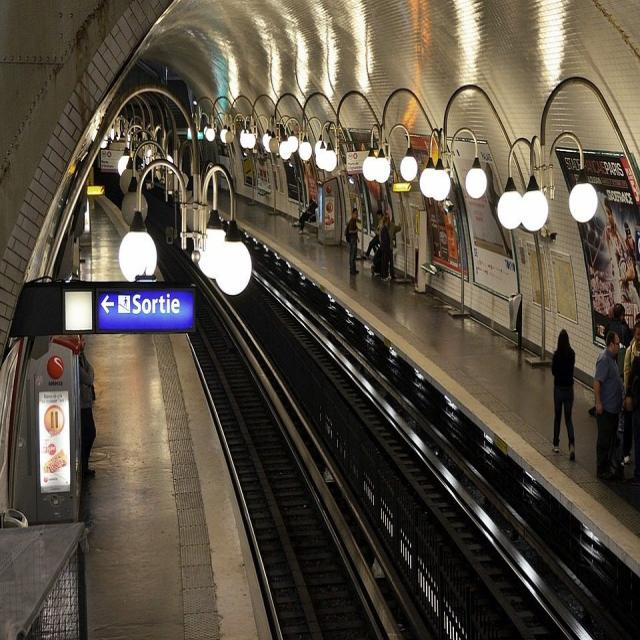body: (582, 191, 640, 318), (593, 330, 624, 485), (550, 326, 578, 466), (481, 159, 513, 259), (77, 332, 97, 479), (622, 321, 640, 465), (603, 302, 632, 376), (343, 206, 360, 275), (385, 212, 402, 280), (362, 208, 384, 259), (378, 214, 392, 283), (293, 198, 318, 236), (77, 481, 96, 529), (297, 233, 317, 264), (348, 273, 359, 293)
